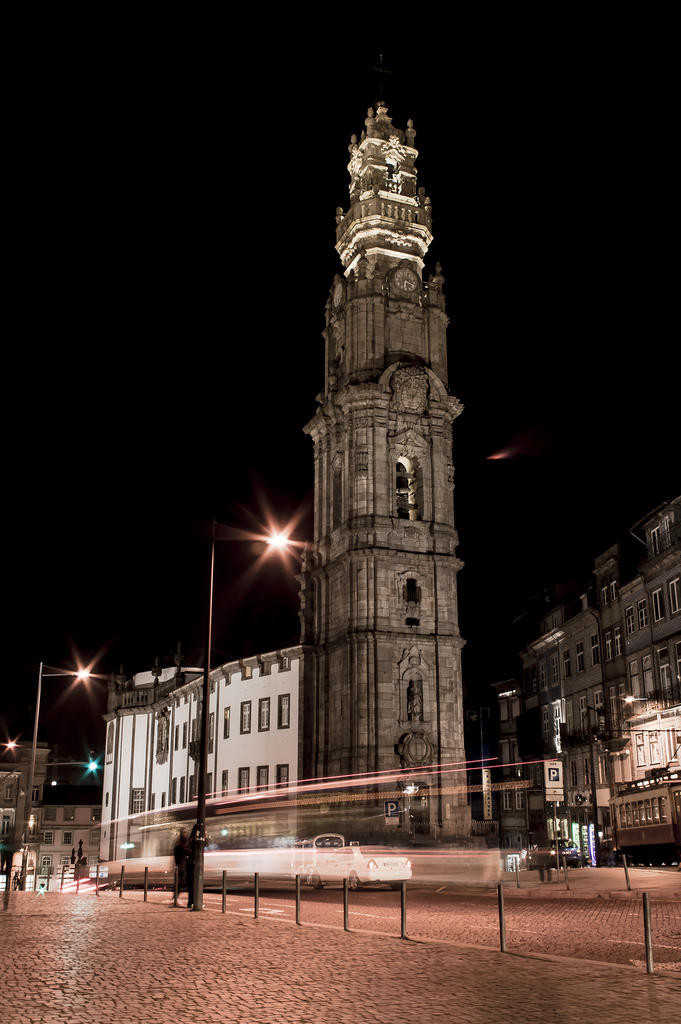clerigos: (293, 53, 475, 844)
